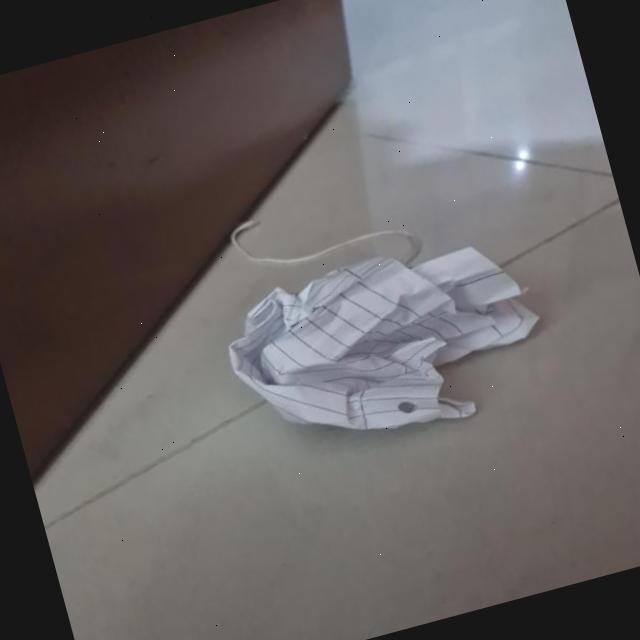trash: (198, 199, 556, 473)
